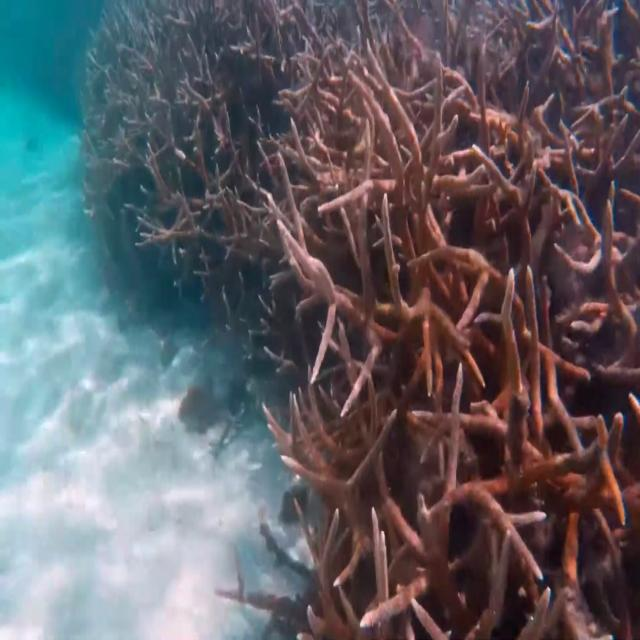Staghorn-Coral -Endangered-: (92, 0, 637, 629)
